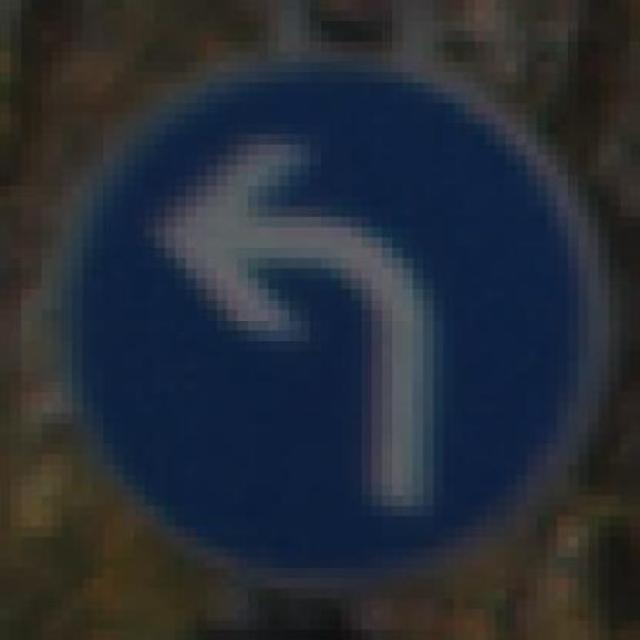Turn left ahead: (52, 48, 599, 566)
